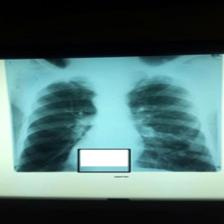tuberculosis: (15, 69, 221, 171)
